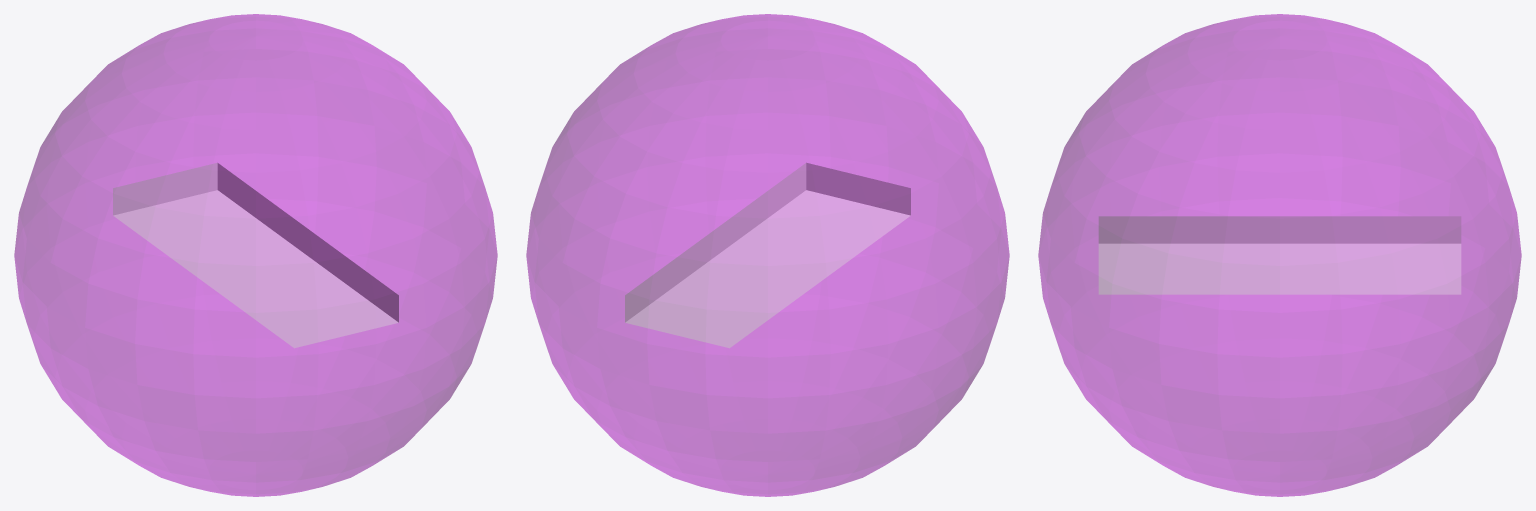
File: simple_plane_with_purple_sphere.glb
3 renders of one model, left to right at view 1: azimuth 30°, elevation 25°; view 2: azimuth 150°, elevation 25°; view 3: azimuth 270°, elevation 25°, orthographic.
Parts seen in each view (by area): view 1: PurpleSphere, Plane; view 2: PurpleSphere, Plane; view 3: PurpleSphere, Plane.
Boxes of the visible parts, box(x1,y1,x2,y2) form: PurpleSphere: box(14, 14, 497, 496); Plane: box(113, 162, 398, 348); PurpleSphere: box(526, 14, 1009, 496); Plane: box(625, 162, 910, 348); PurpleSphere: box(1038, 14, 1521, 496); Plane: box(1098, 216, 1461, 294).
Size of the model in its own units: 8 by 8 by 8.
